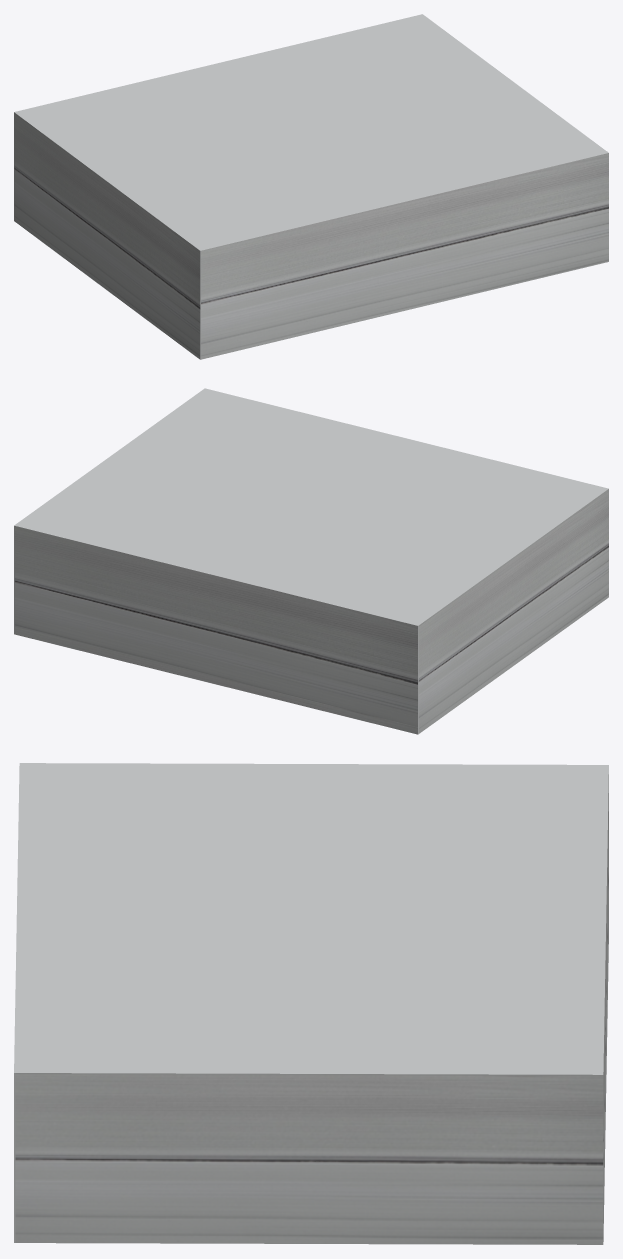
File: papierki.glb
The picture shows the model from 3 angles, top to bottom: view 1: azimuth 30°, elevation 25°; view 2: azimuth 150°, elevation 25°; view 3: azimuth 270°, elevation 25°; orthographic projection. The views are drawn at different scales.
Parts seen in each view (by area): view 1: biurko.054; view 2: biurko.054; view 3: biurko.054.
Part boxes in pixels (x1,y1,x2,y2): biurko.054: (14,14,608,359); biurko.054: (14,388,608,734); biurko.054: (14,763,608,1244).
Size of the model in its own units: 0.7996 by 0.2034 by 0.6449.
Materials: 1 (1 with a texture image).
